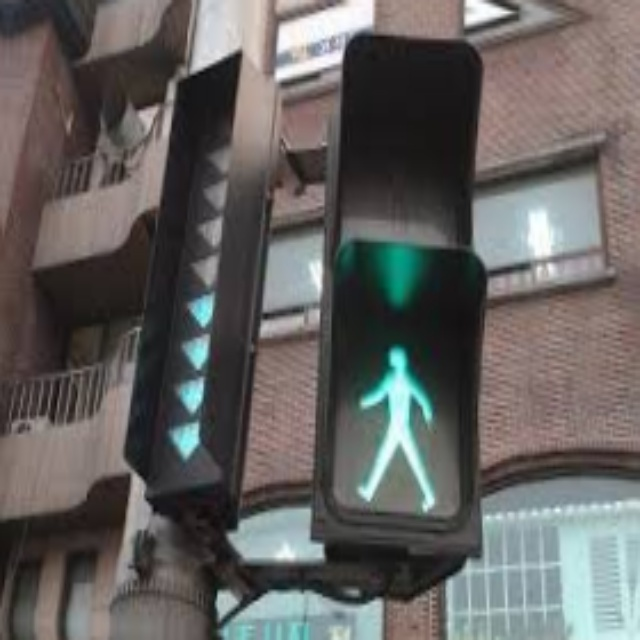green_light: (349, 337, 450, 515), (164, 418, 203, 463), (179, 288, 219, 329), (170, 374, 208, 414), (176, 335, 217, 370)
